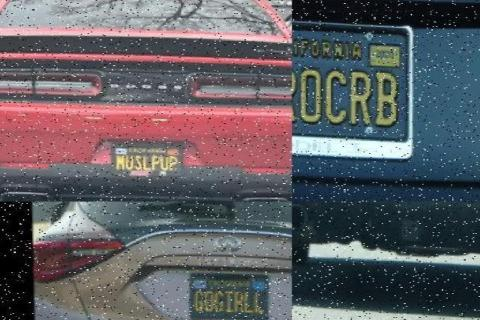LicensePlate: (292, 4, 424, 165), (190, 263, 275, 320), (111, 139, 185, 173), (374, 202, 450, 226)
